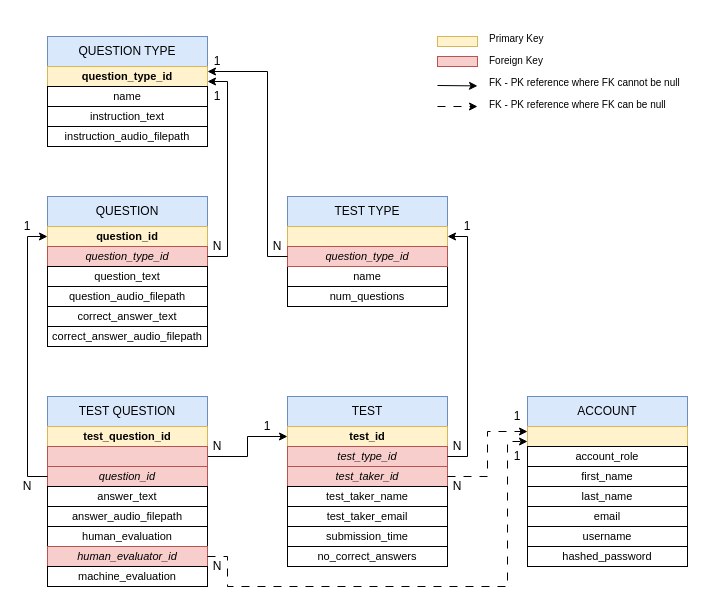
Some shapes in this 724 by 612 pixel diagram are drawn without their labels. The shapes that lost their labels are listed below. From the top down, each one's centre as x and y in pixels, then its label:
At (x=367, y=236): "test_type _id".
At (x=127, y=456): "test_id".
At (x=607, y=436): "account_id".
